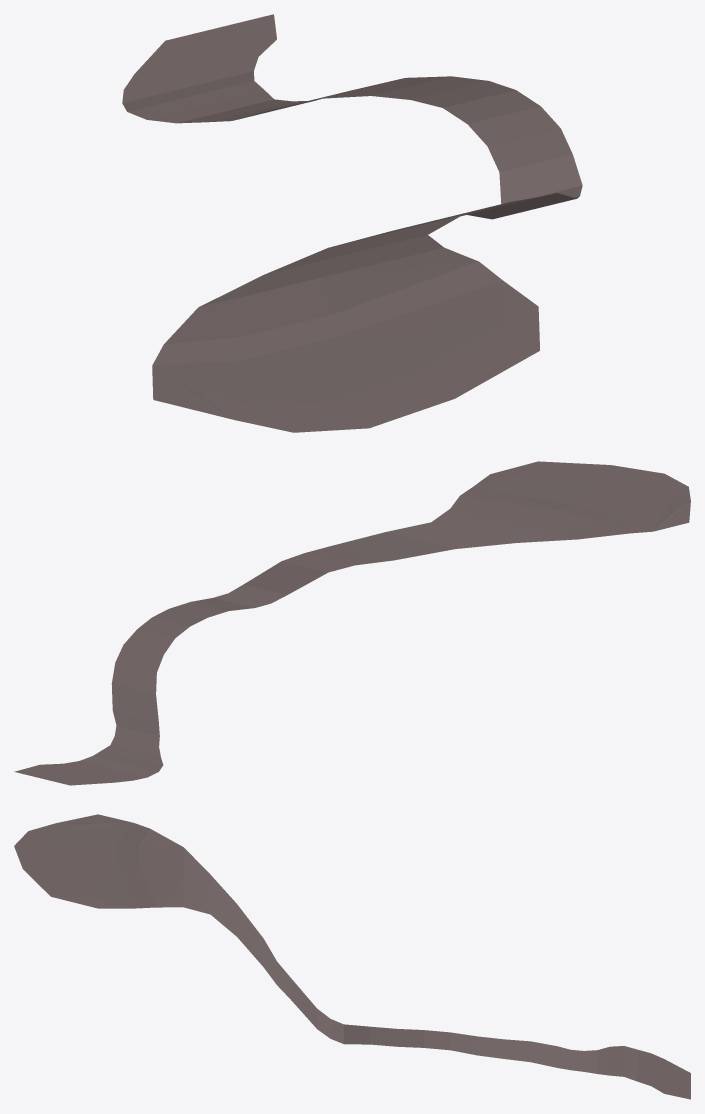
File: Path02.obj
3 renders of one model, top to bottom at view 1: azimuth 30°, elevation 25°; view 2: azimuth 150°, elevation 25°; view 3: azimuth 270°, elevation 25°, orthographic. The views are drawn at different scales.
Parts seen in each view (by area): view 1: OneWayPath_Plane; view 2: OneWayPath_Plane; view 3: OneWayPath_Plane.
Part boxes in pixels (x1,y1,x2,y2): OneWayPath_Plane: (122, 14, 582, 432); OneWayPath_Plane: (14, 461, 690, 785); OneWayPath_Plane: (14, 814, 690, 1099).
Size of the model in its own units: 23.29 by 6.97 by 38.16.
Materials: 1 (1 with a texture image).
